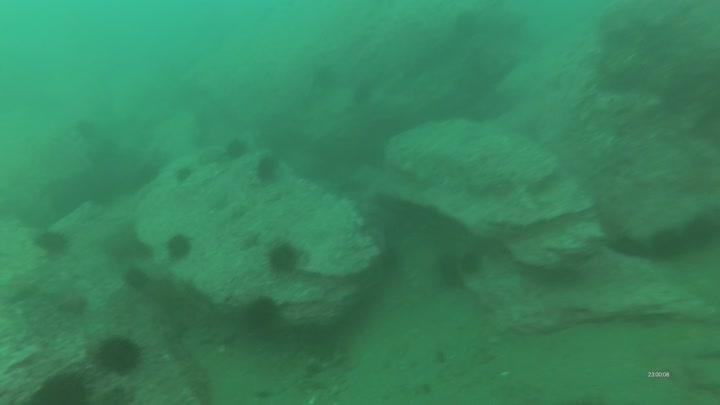echinus: (31, 369, 93, 405), (93, 333, 144, 376), (241, 294, 282, 333), (264, 238, 304, 277), (681, 210, 719, 251), (647, 226, 687, 263), (433, 250, 466, 290), (32, 227, 72, 258), (451, 8, 484, 40), (163, 231, 195, 263), (253, 152, 283, 186), (121, 265, 151, 293), (457, 249, 485, 278), (222, 136, 251, 162), (172, 163, 196, 186)
starfish: (53, 289, 90, 317)
